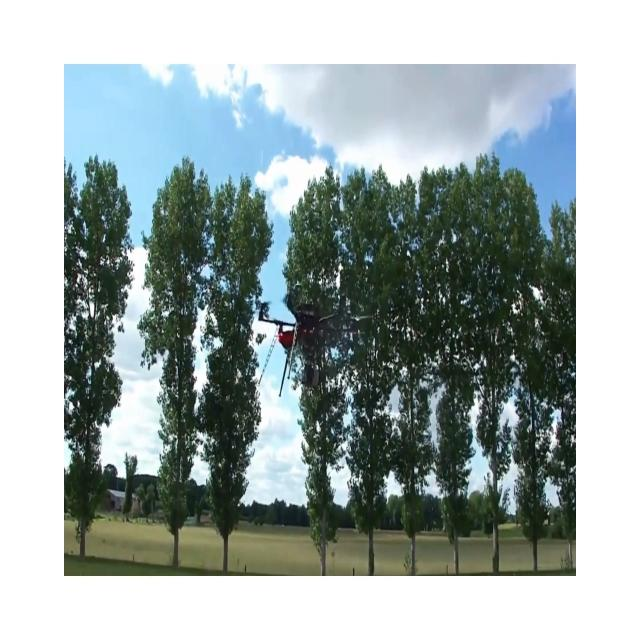drone: (256, 290, 376, 397)
